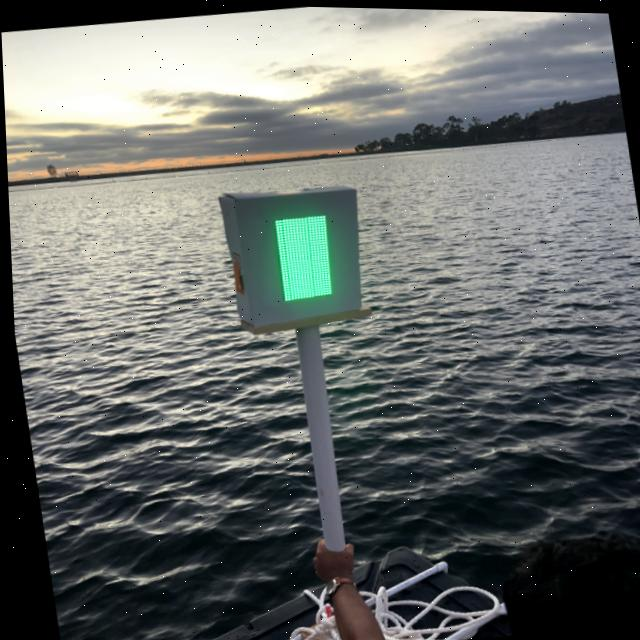led: (257, 204, 342, 309)
